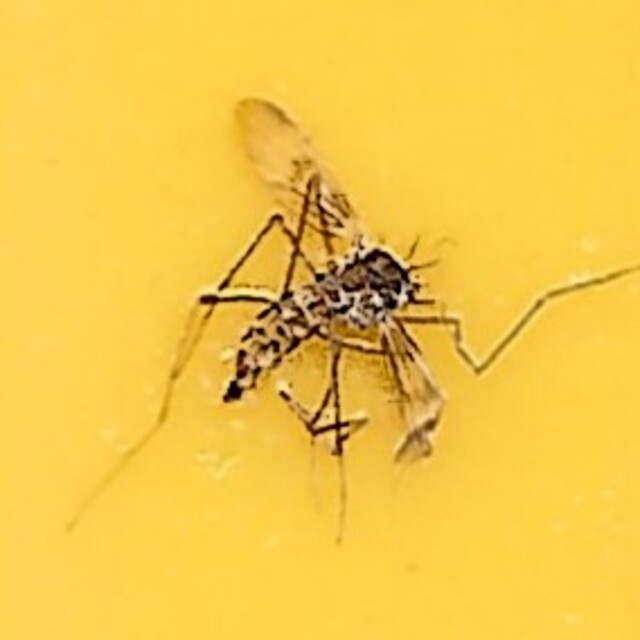Nematocera: (225, 240, 415, 400)
